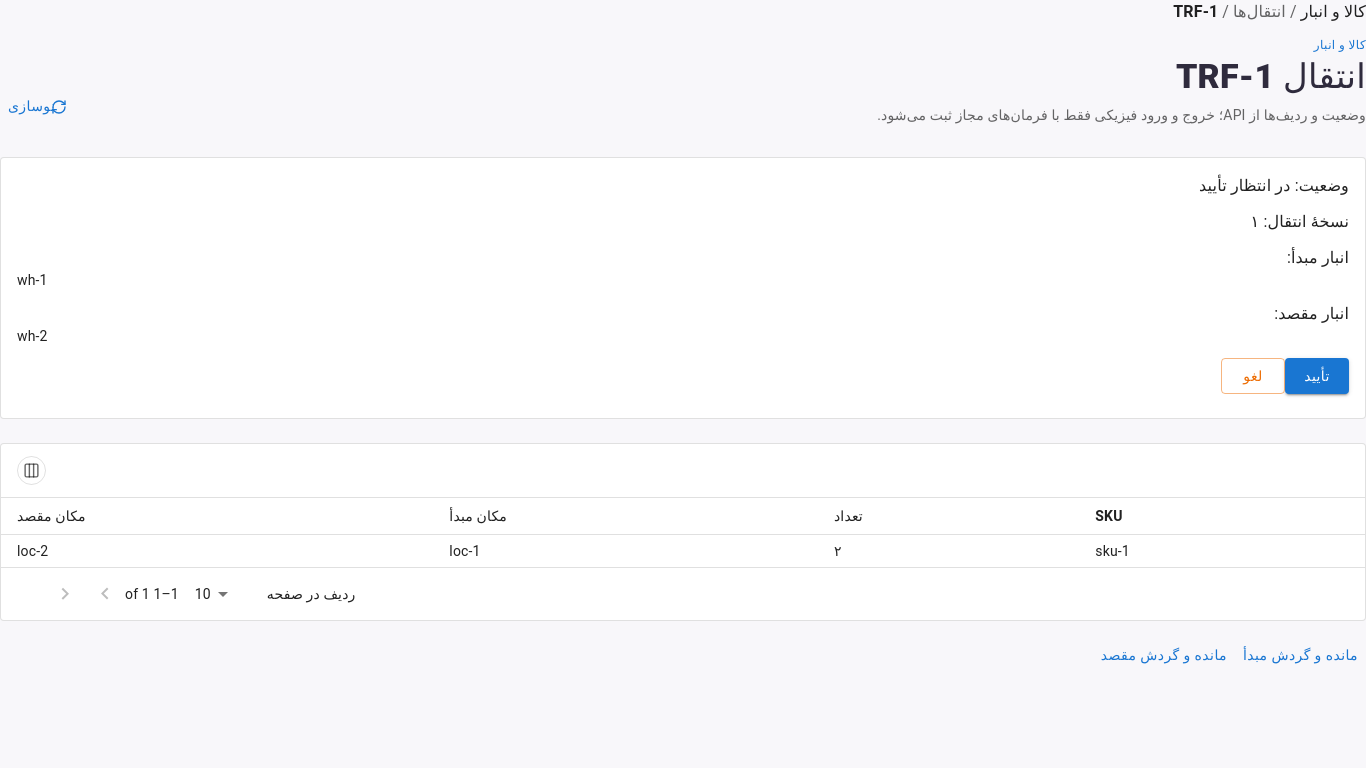
TransferDetailView › blocks a stale detail and never sends a transition
Step 1. Click the button "تأیید" → {"x": 1317, "y": 376}, box [1285,358,1349,394]
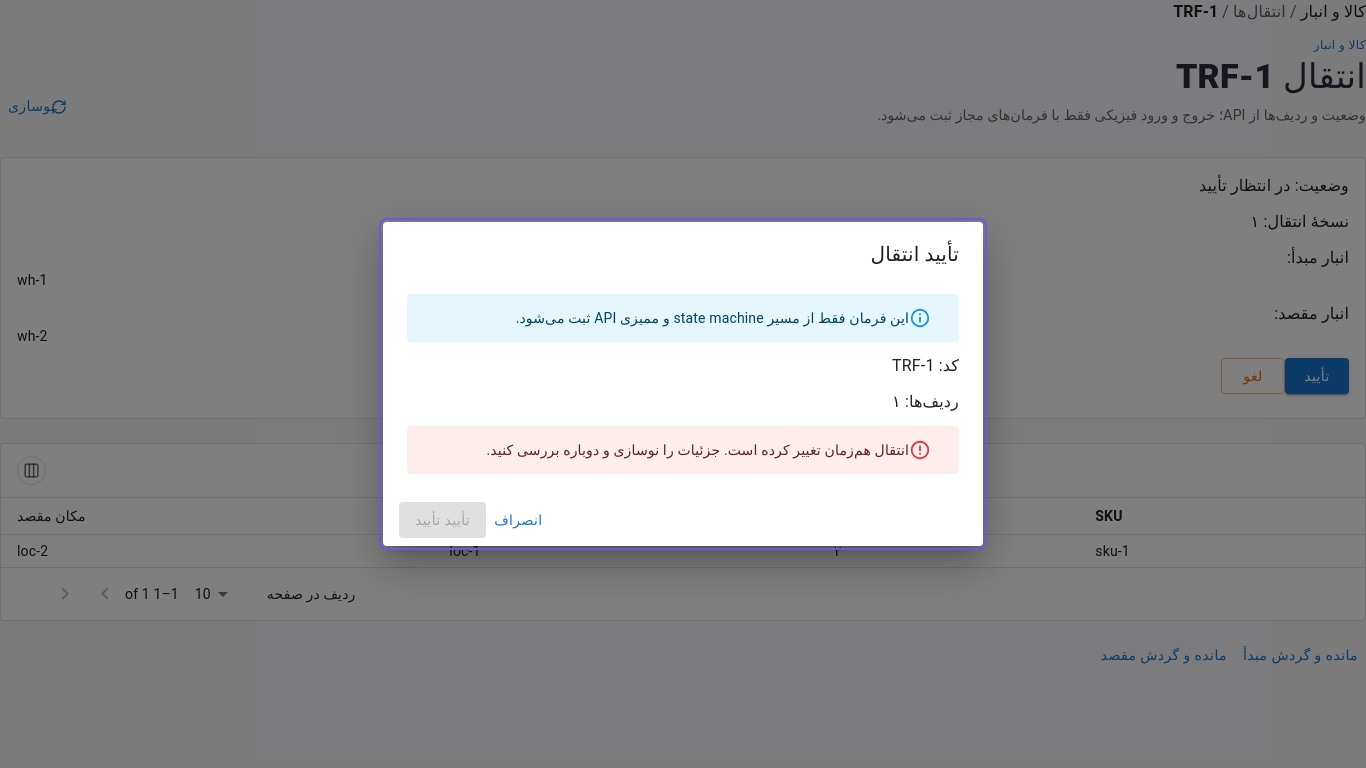
Expected: the text "انتقال هم‌زمان تغییر کرده است" is shown, [486,442,909,458]
Expected: the button "تأیید تأیید" is disabled, [399,502,486,538]
